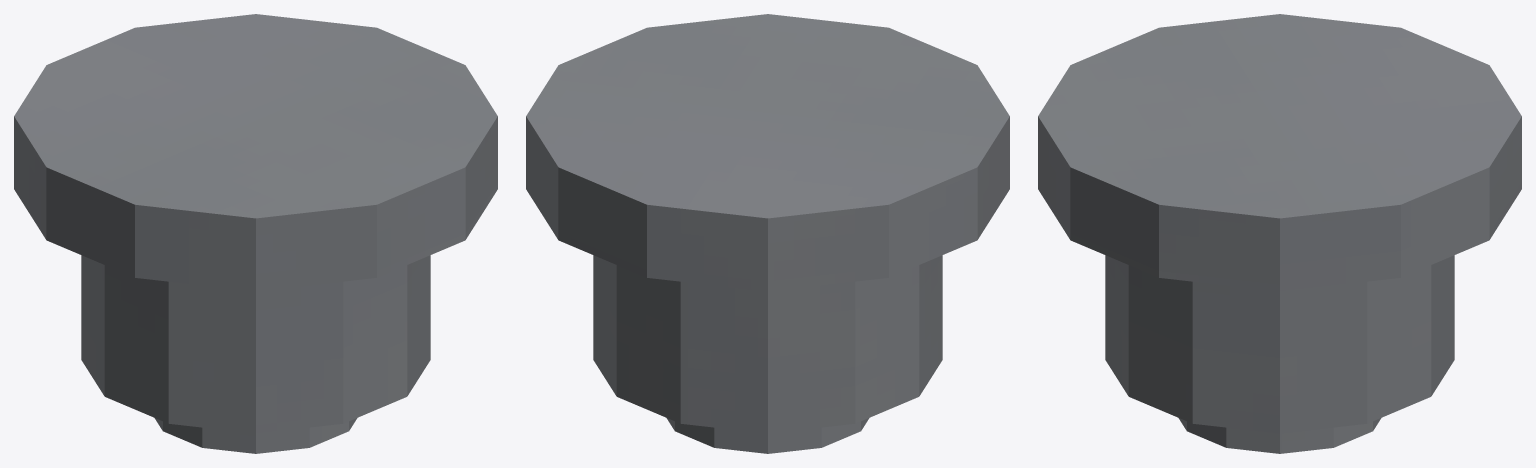
Rendered from lamp_beacon.glb.
The picture shows the model from 3 angles, left to right: view 1: azimuth 30°, elevation 25°; view 2: azimuth 150°, elevation 25°; view 3: azimuth 270°, elevation 25°; orthographic projection.
Visible parts, largest first — view 1: decor_lamp_beacon_baked; view 2: decor_lamp_beacon_baked; view 3: decor_lamp_beacon_baked.
Part boxes in pixels (x1,y1,x2,y2): decor_lamp_beacon_baked: [14, 14, 497, 453]; decor_lamp_beacon_baked: [526, 14, 1009, 453]; decor_lamp_beacon_baked: [1038, 14, 1521, 453].
Size of the model in its own units: 0.18 by 0.12 by 0.18.
Materials: 1 (1 with a texture image).
